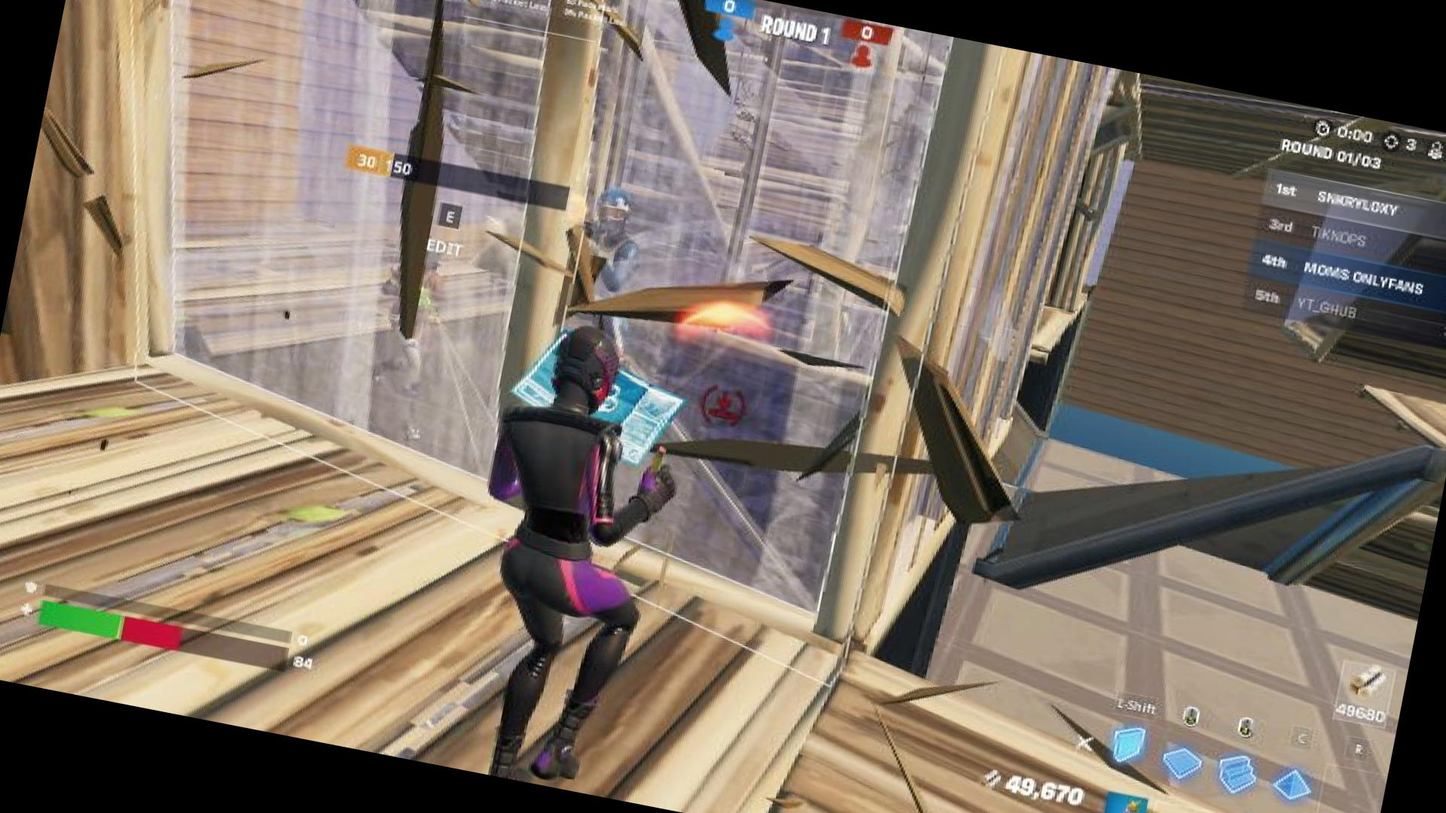player: (534, 174, 682, 329)
